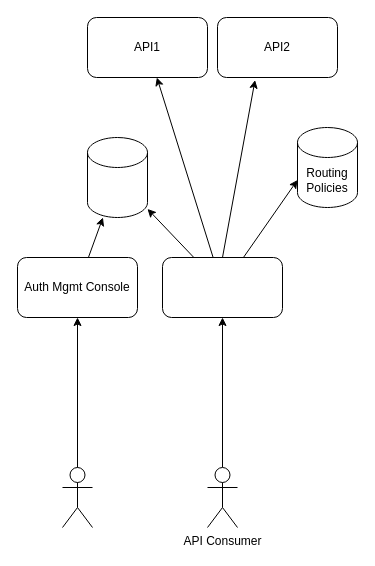
This 375x566 diagram has some shape labels left out. Here are the shapes that lost their labels. From the top down, the box of each, then its label:
(86, 136, 148, 218): Auth Policies
(162, 256, 282, 318): SecuredRoutes
(62, 466, 92, 528): Administrator
